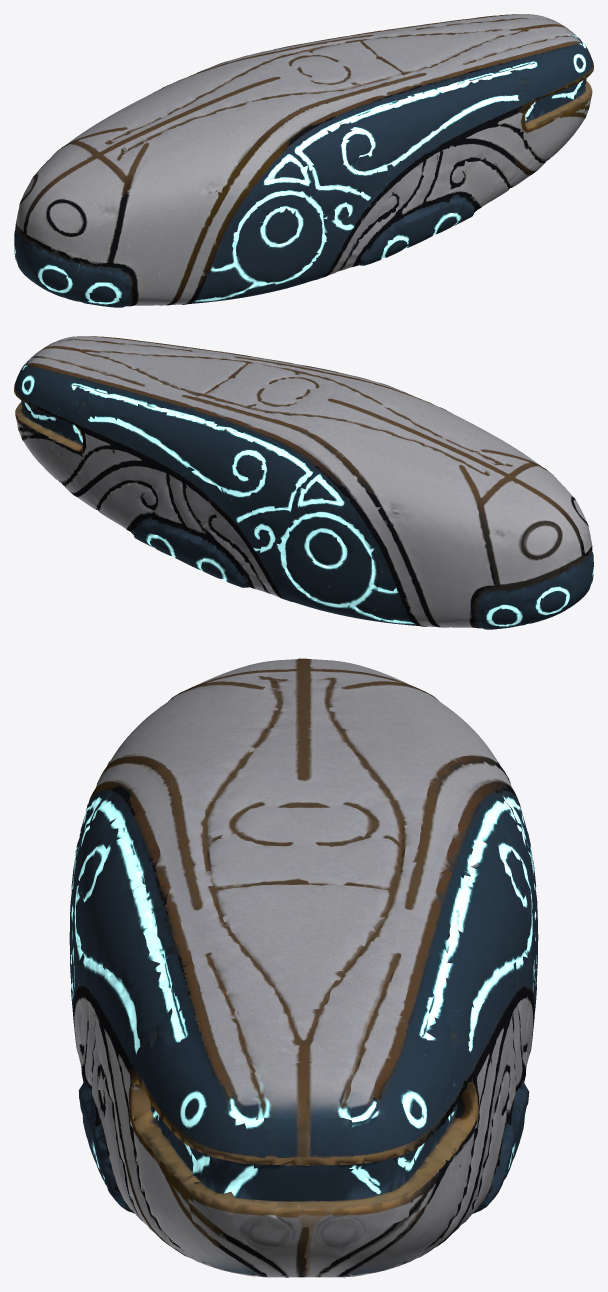
File: starpod_pod_v4.glb
3 views of the same model, one above another, from view 1: azimuth 30°, elevation 25°; view 2: azimuth 150°, elevation 25°; view 3: azimuth 270°, elevation 25° (orthographic). The views are drawn at different scales.
Size of the model in its own units: 1.9 by 0.5812 by 0.6939.
1 material, 1 textured.
